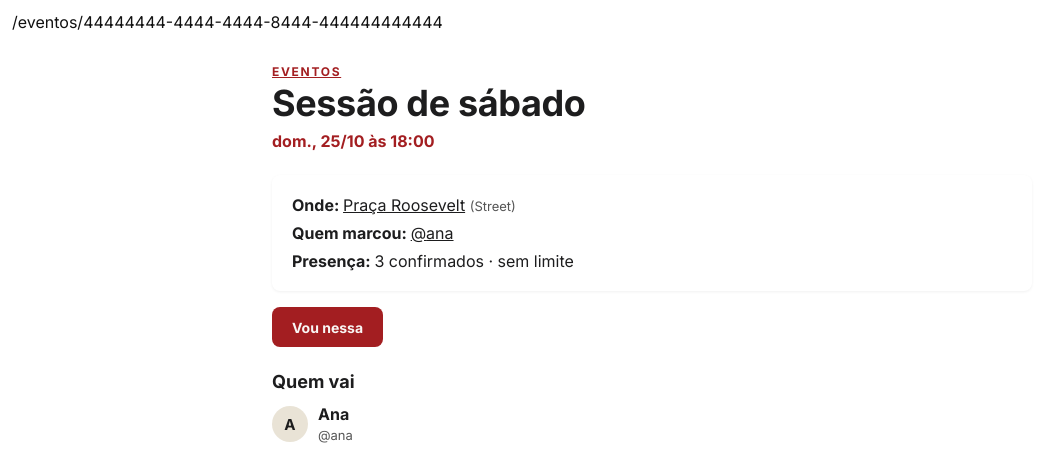
Test: encontro › confirma presença
Click the button "Vou nessa" at (328, 327), box [272,307,383,347]
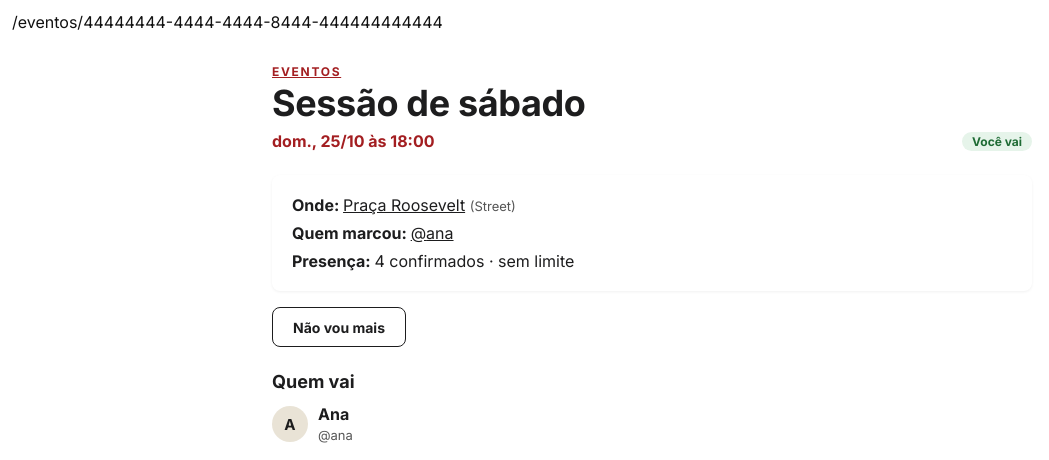
Check: the button "Não vou mais" is shown, box [272,307,406,347]
